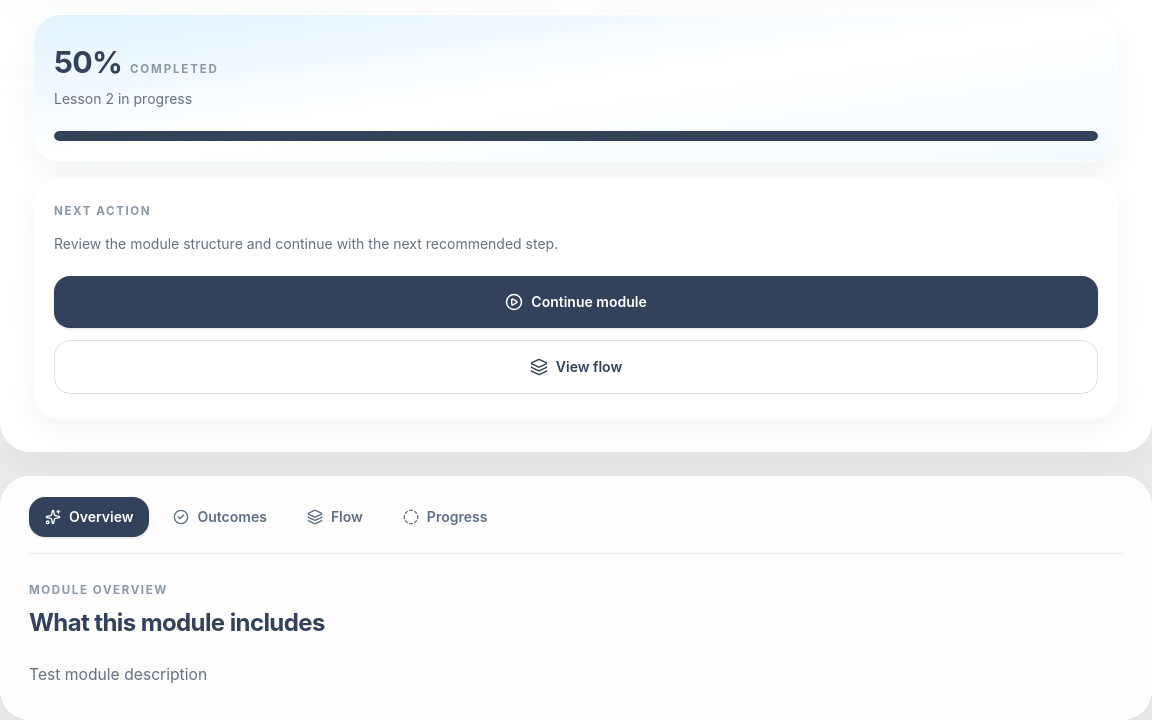
Scenario: curriculum list and course detail UI › renders the course detail view and exposes the learning workspace
(page scrolled)
Expected: the text "50%" is shown, [54, 47, 122, 78]
What coordinates should you click on to do the following:
click the button "Flow"
I would click on:
 (335, 517)
Its box is [291, 497, 379, 537].
(page scrolled)
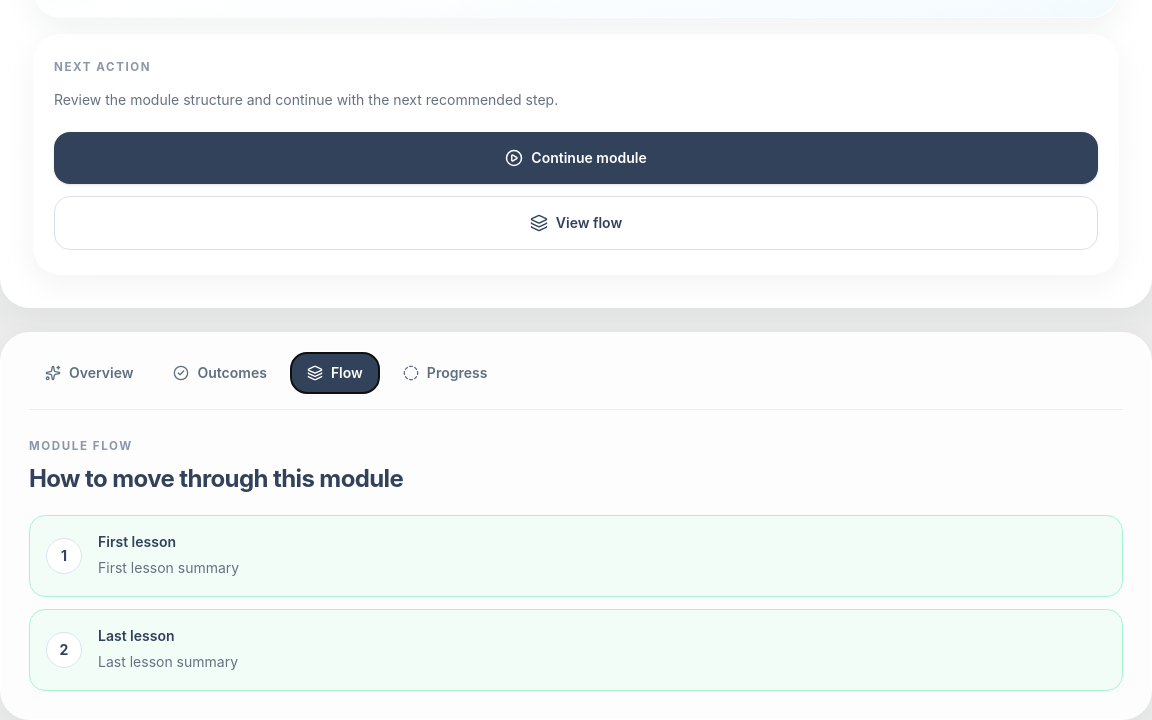
Now the text "First lesson" is shown, box [98, 533, 176, 550]
Now the text "Last lesson" is shown, box [98, 627, 174, 644]
